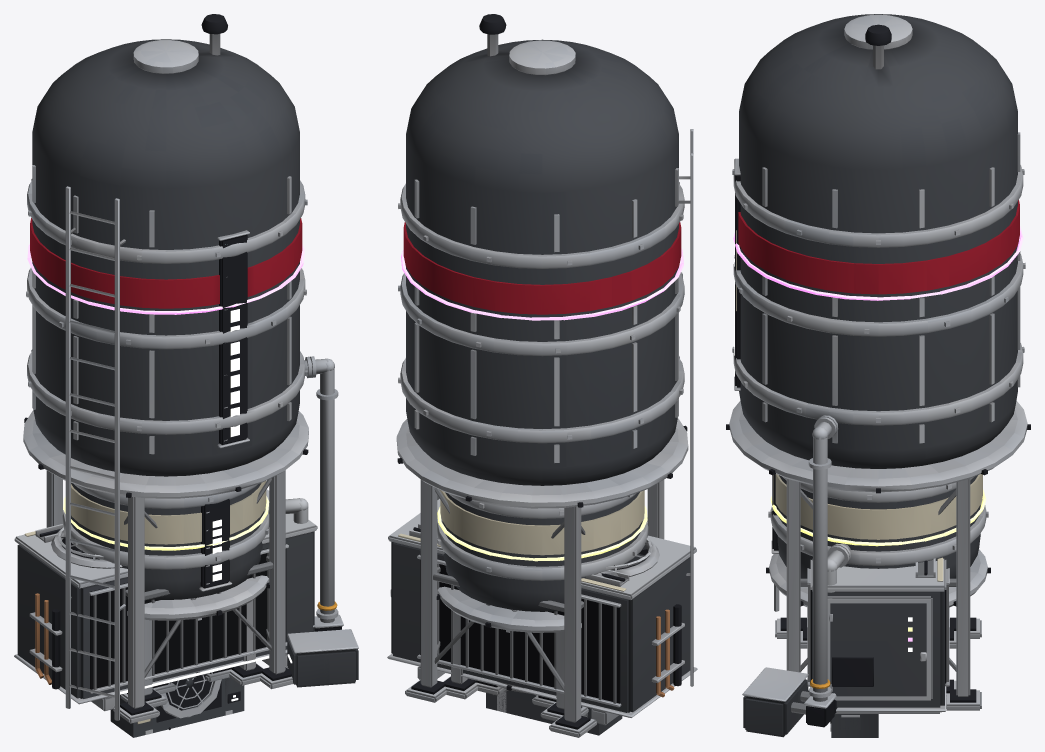
Rendered from roofkit312.glb.
3 renders of one model, left to right at view 1: azimuth 30°, elevation 25°; view 2: azimuth 150°, elevation 25°; view 3: azimuth 270°, elevation 25°, orthographic. The views are drawn at different scales.
Visible parts, largest first — view 1: rk312_tankL-comp, rk312_tankL-steel, rk312_condL-comp, rk312_tankM-steel, rk312_condL-steel, rk312_condL-dark, rk312_tankL-crim, rk312_tankM-comp, rk312_tankL-dark, rk312_tankM-cream, rk312_tankM-dark, rk312_wacLoA-comp (+7 smaller); view 2: rk312_tankL-comp, rk312_tankL-steel, rk312_condL-comp, rk312_condL-steel, rk312_tankM-steel, rk312_tankL-crim, rk312_condL-dark, rk312_tankM-comp, rk312_tankM-cream, rk312_wacLoA-comp, rk312_tankL-ledp, rk312_tankL-dark (+2 smaller); view 3: rk312_tankL-comp, rk312_tankL-steel, rk312_condL-comp, rk312_tankL-crim, rk312_tankM-steel, rk312_condL-steel, rk312_tankM-cream, rk312_tankM-comp, rk312_tankL-dark, rk312_condL-dark, rk312_tankL-ledp, rk312_wacLoA-comp (+2 smaller).
Part boxes in pixels (x1,y1,x2,y2): rk312_tankL-comp: (32,39,358,684); rk312_tankL-steel: (23,34,358,723); rk312_condL-comp: (17,531,314,698); rk312_tankM-steel: (62,484,331,707); rk312_condL-steel: (14,489,317,711); rk312_condL-dark: (39,528,286,689); rk312_tankL-crim: (30,218,302,308); rk312_tankM-comp: (71,483,329,687); rk312_tankL-dark: (24,14,341,715); rk312_tankM-cream: (71,481,266,544); rk312_tankM-dark: (127,499,269,701); rk312_wacLoA-comp: (110,677,244,737); rk312_tankL-comp: (406,39,678,485); rk312_tankL-steel: (396,34,693,737); rk312_condL-comp: (391,542,690,712); rk312_condL-steel: (387,499,697,725); rk312_tankM-steel: (437,493,648,721); rk312_tankL-crim: (403,222,681,314); rk312_condL-dark: (413,527,681,703); rk312_tankM-comp: (442,492,642,611); rk312_tankM-cream: (440,490,644,555); rk312_wacLoA-comp: (486,690,622,735); rk312_tankL-ledp: (401,248,683,320); rk312_tankL-dark: (397,14,687,729); rk312_tankL-comp: (739,14,1017,737); rk312_tankL-steel: (729,14,1027,714); rk312_condL-comp: (812,590,944,707); rk312_tankL-crim: (738,200,1019,294); rk312_tankM-steel: (752,477,988,701); rk312_condL-steel: (807,558,949,713); rk312_tankM-cream: (773,474,982,539); rk312_tankM-comp: (777,475,980,720); rk312_tankL-dark: (726,24,1030,727); rk312_condL-dark: (810,560,946,686); rk312_tankL-ledp: (733,226,1023,300); rk312_wacLoA-comp: (831,714,878,737).
Bounding box in the file's own units: 2.14 × 5.04 × 1.97.
